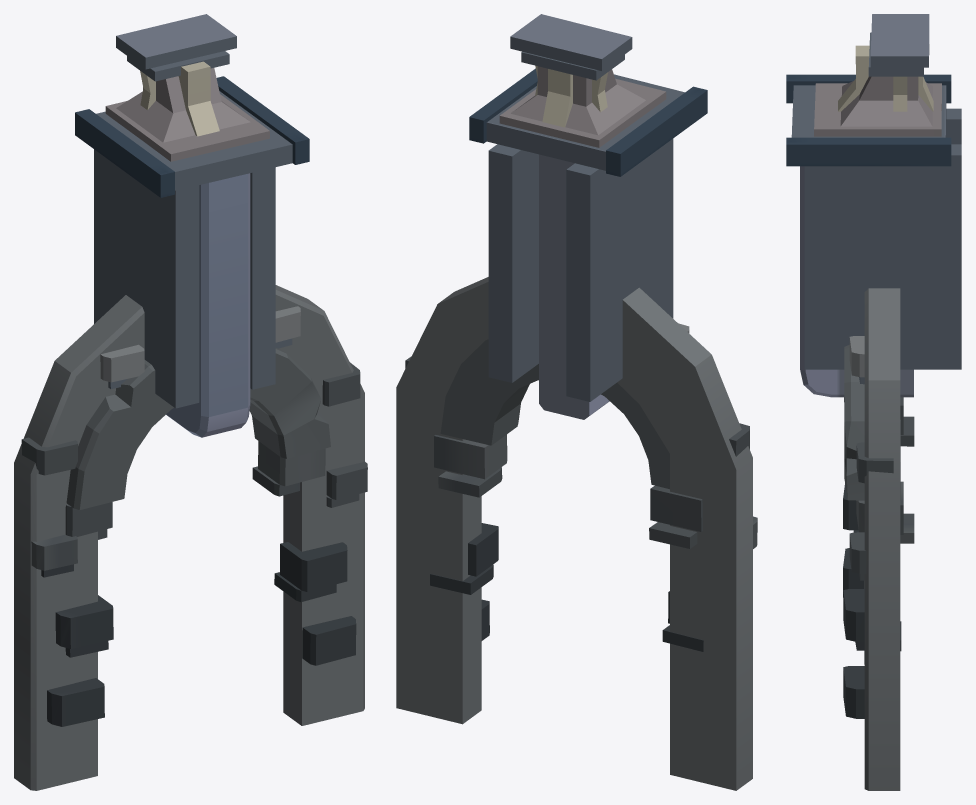
The model's file is Block.fbx.
3 renders of one model, left to right at view 1: azimuth 30°, elevation 25°; view 2: azimuth 150°, elevation 25°; view 3: azimuth 270°, elevation 25°, orthographic. The views are drawn at different scales.
Visible parts, largest first — view 1: Block; view 2: Block; view 3: Block.
Boxes of the visible parts, bbox=[...] form: Block: bbox=[14, 14, 367, 790]; Block: bbox=[396, 14, 757, 790]; Block: bbox=[786, 14, 961, 790].
Size of the model in its own units: 81.83 by 164 by 38.67.
